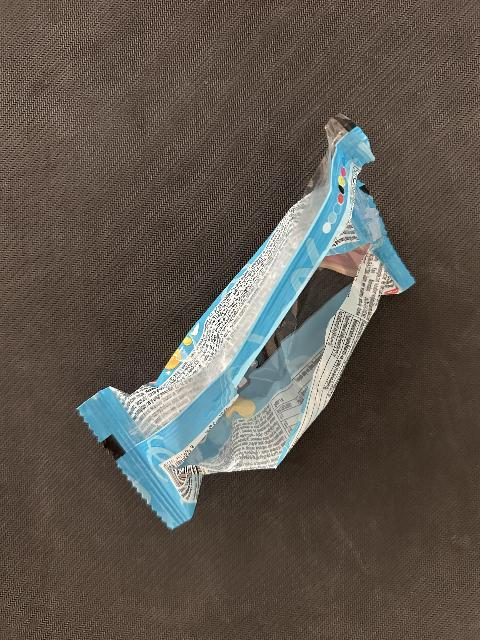Plastik: (79, 111, 414, 530)
